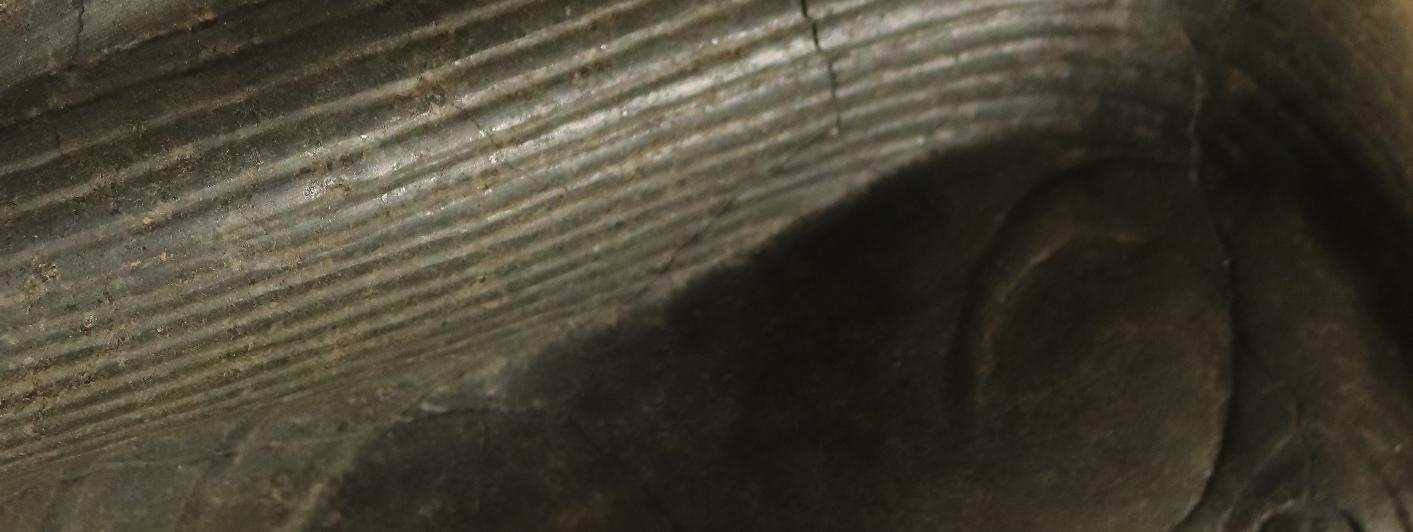Ra_Horakhty: (0, 0, 703, 532)
